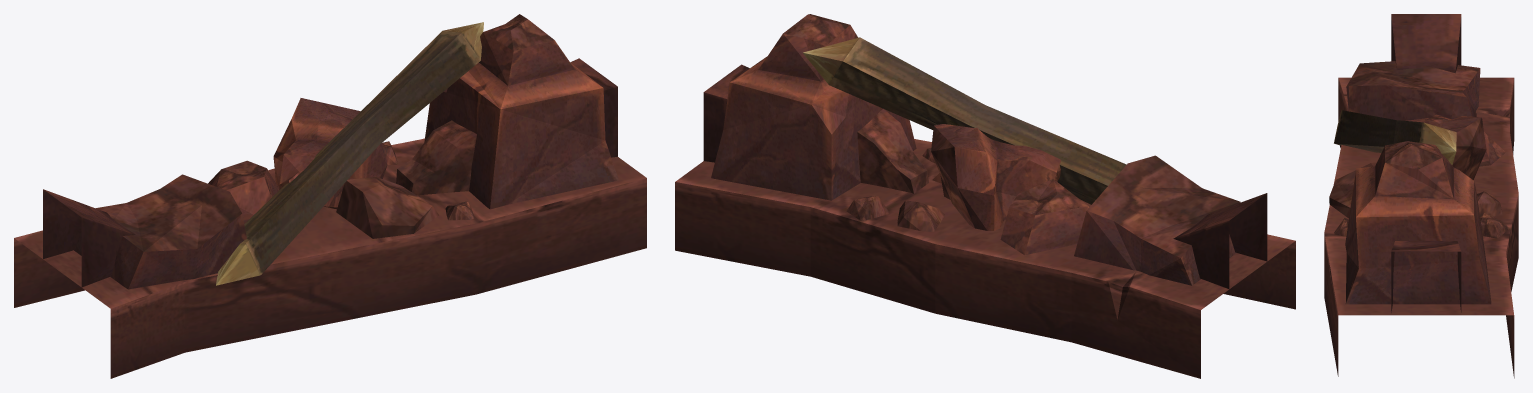
File: lava_railing_straight_03.fbx
The picture shows the model from 3 angles, left to right: view 1: azimuth 30°, elevation 25°; view 2: azimuth 150°, elevation 25°; view 3: azimuth 270°, elevation 25°; orthographic projection. The views are drawn at different scales.
Parts seen in each view (by area): view 1: obj2.005; view 2: obj2.005; view 3: obj2.005.
Boxes of the visible parts, bbox=[...] form: obj2.005: bbox=[14, 14, 646, 378]; obj2.005: bbox=[675, 14, 1295, 378]; obj2.005: bbox=[1324, 14, 1518, 378].
Bounding box in the file's own units: 4 × 1.56 × 1.38.
